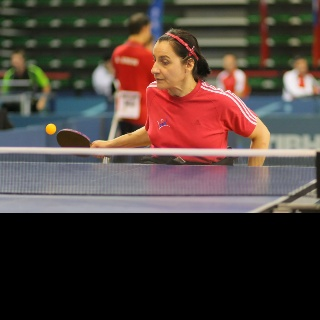without_mask: (150, 41, 185, 90)
